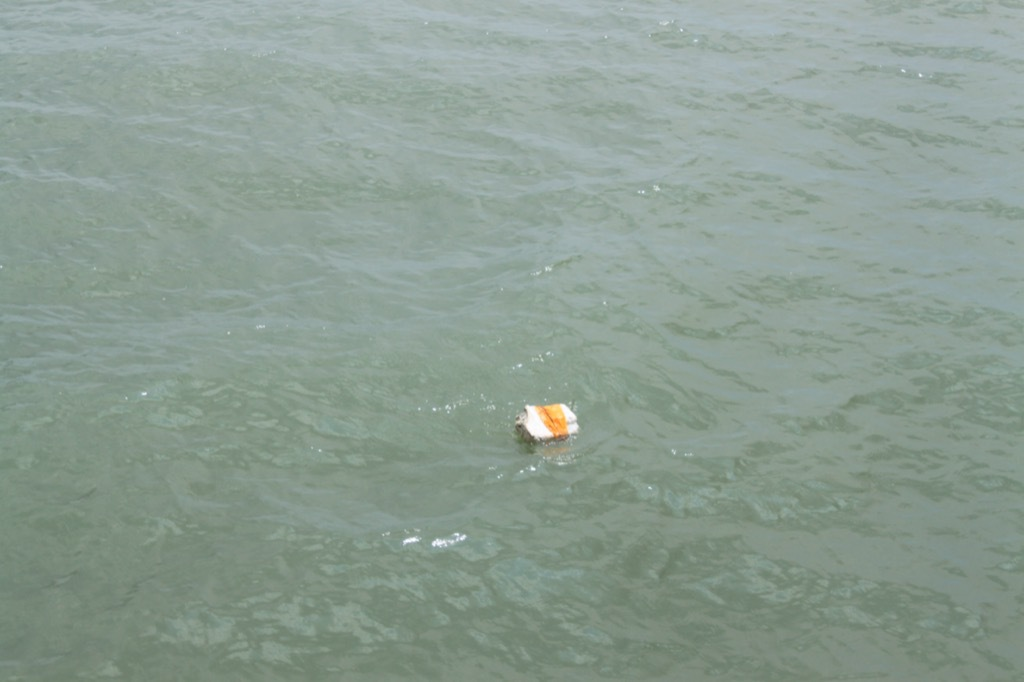plastic: (499, 383, 589, 467)
